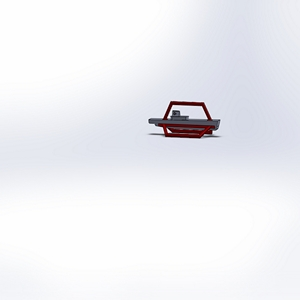submarine: (135, 89, 232, 159)
